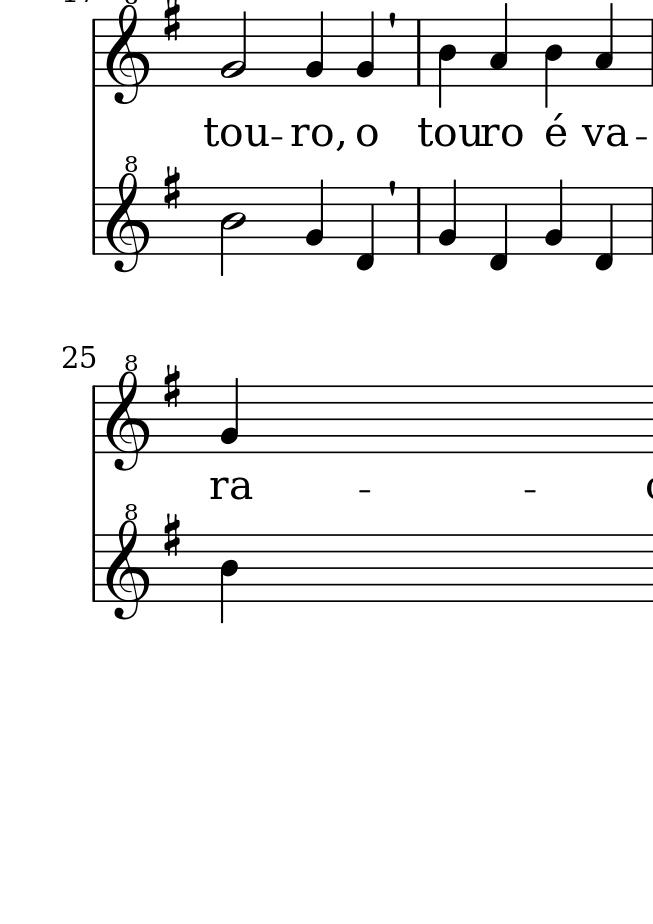2: (61, 345, 77, 370)
2_2: (219, 8, 249, 87)
2_4: (219, 187, 246, 275)
4_-1: (486, 185, 511, 273), (591, 184, 615, 273), (353, 185, 377, 272)
4_2: (304, 9, 326, 88), (354, 9, 376, 88), (304, 177, 326, 256), (543, 177, 565, 256), (219, 377, 241, 454), (437, 177, 458, 256)
4_3: (593, 3, 616, 85), (488, 3, 510, 85)
4_4: (219, 534, 240, 626), (437, 18, 458, 107), (543, 20, 564, 107)
5: (78, 342, 96, 371)
High_Gclef: (107, 156, 149, 275), (107, 354, 149, 472), (107, 503, 148, 622)
Sharp: (162, 164, 182, 212), (162, 363, 182, 411), (162, 512, 182, 559), (162, 1, 182, 45)
Single_barline: (412, 20, 427, 87), (412, 190, 427, 254), (88, 19, 101, 88), (87, 189, 101, 253), (87, 536, 101, 600), (87, 386, 100, 453)
